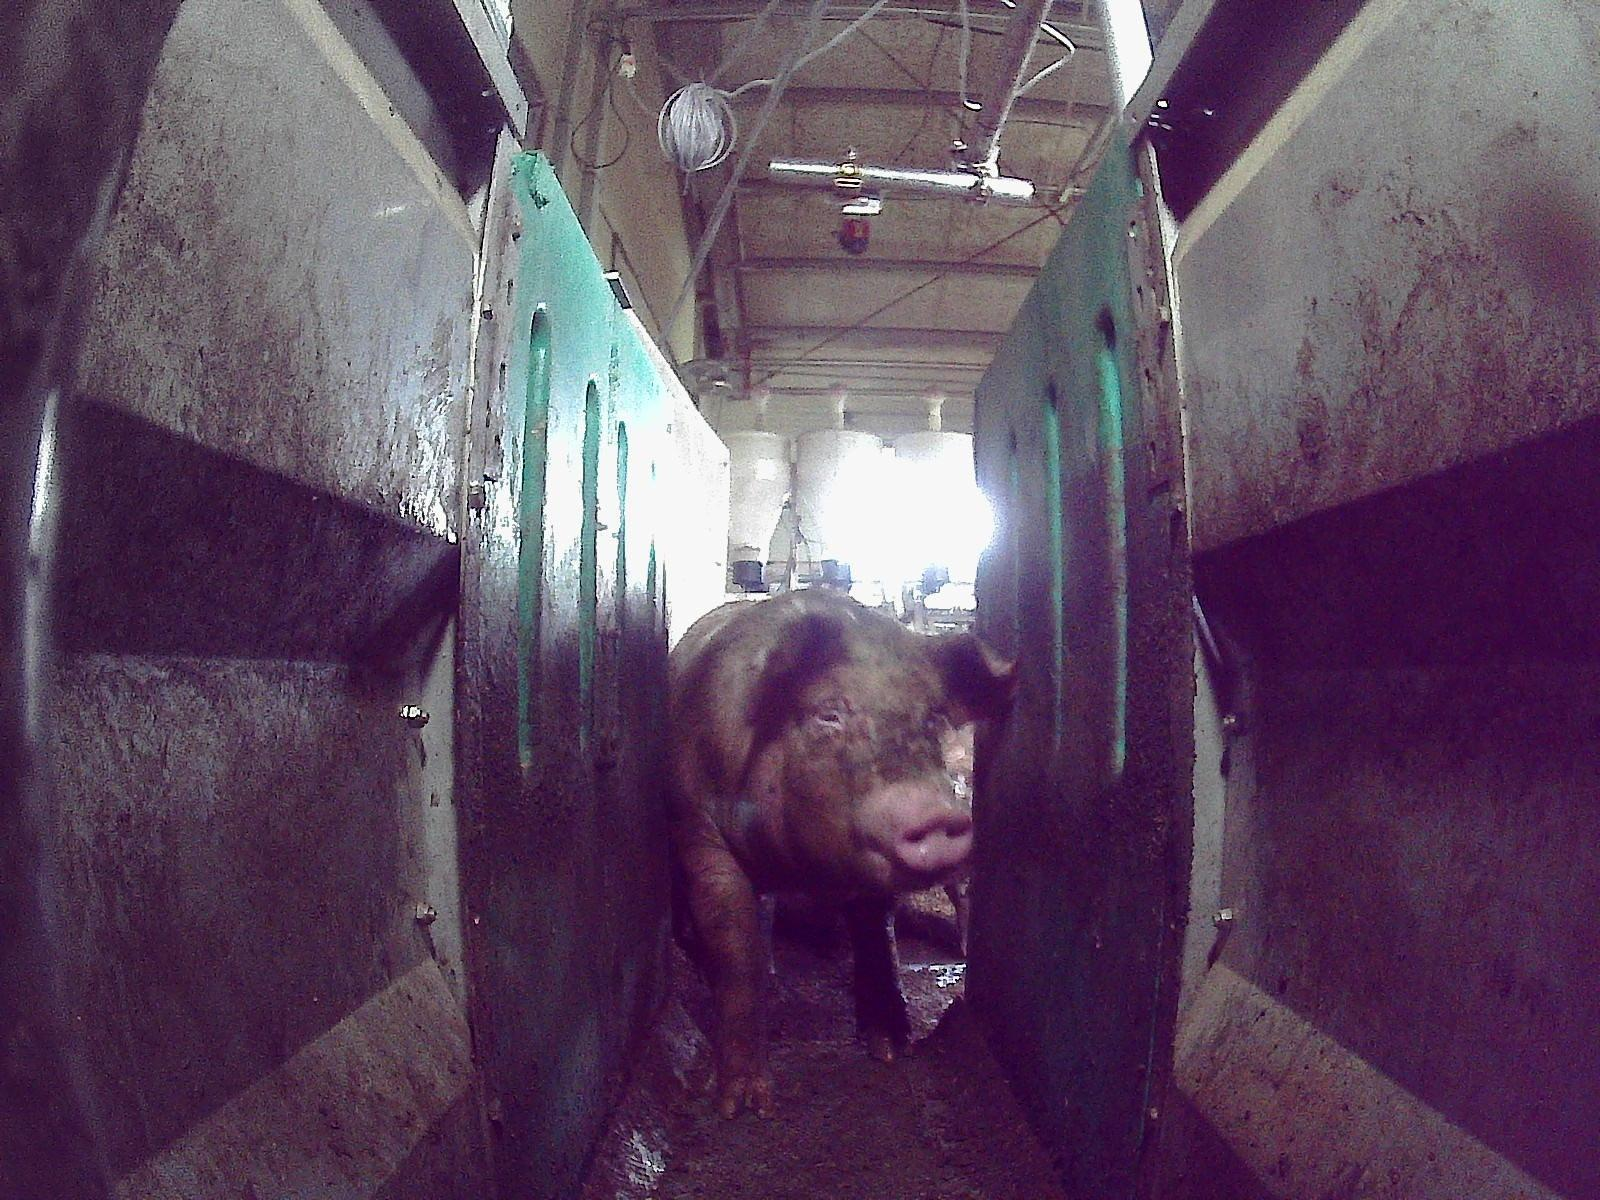Face: (764, 638, 970, 891)
